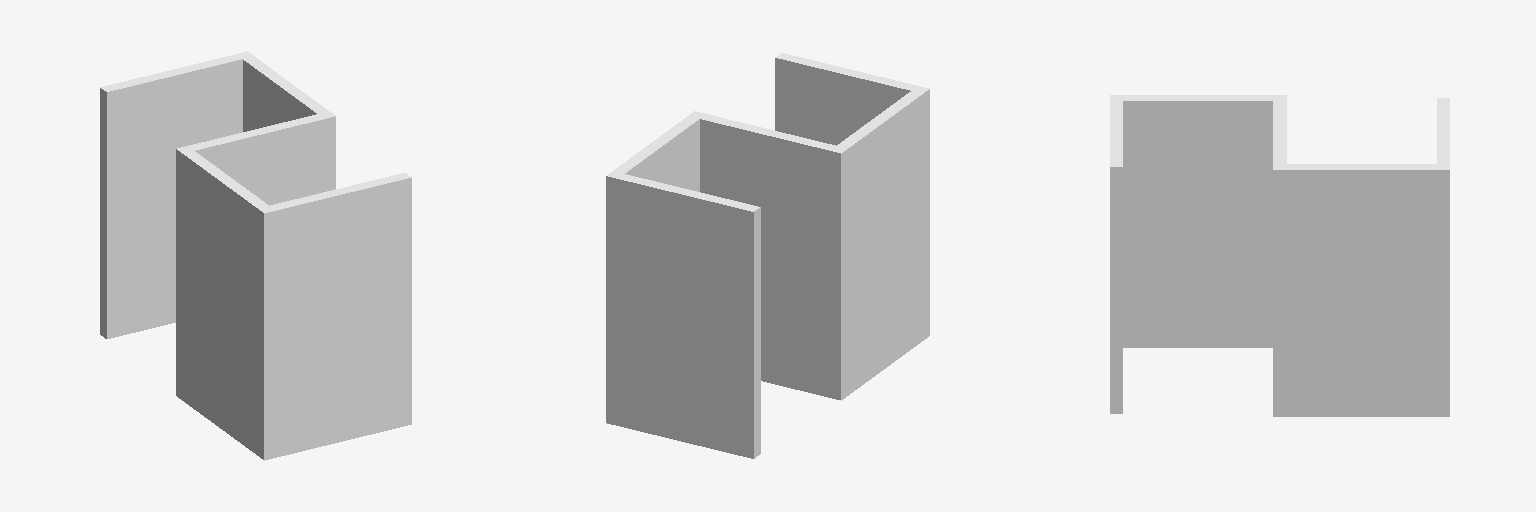
The picture shows the model from 3 angles: view 1: azimuth 30°, elevation 25°; view 2: azimuth 150°, elevation 25°; view 3: azimuth 270°, elevation 25°; orthographic projection.
Visible parts, largest first — view 1: wall_5_28, wall_1_4, wall_4_22, wall_3_15, wall_2_10, wall_1_3; view 2: wall_1_3, wall_3_16, wall_4_22, wall_5_27, wall_2_10, wall_1_4; view 3: wall_2_9, wall_4_21, wall_5_27, wall_5_28.
Part boxes in pixels (x1,y1,x2,y2): wall_5_28: (264, 178, 411, 460); wall_1_4: (103, 59, 242, 338); wall_4_22: (176, 149, 263, 459); wall_3_15: (195, 116, 335, 205); wall_2_10: (243, 60, 316, 131); wall_1_3: (100, 88, 102, 335); wall_1_3: (606, 176, 756, 458); wall_3_16: (700, 119, 840, 399); wall_4_22: (841, 89, 929, 400); wall_5_27: (775, 58, 910, 145); wall_2_10: (625, 119, 699, 191); wall_1_4: (757, 207, 760, 455); wall_2_9: (1273, 170, 1449, 416); wall_4_21: (1123, 101, 1272, 347); wall_5_27: (1116, 167, 1122, 413); wall_5_28: (1110, 167, 1115, 413).
Size of the model in its own units: 99.18 by 152 by 190.